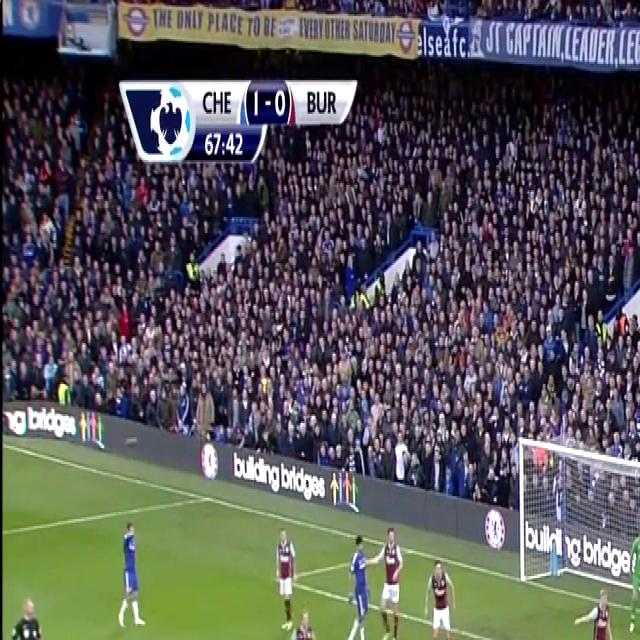goalkeeper: (624, 519, 640, 638)
referee: (8, 588, 49, 640)
soccer-player: (112, 507, 152, 638), (375, 515, 412, 640), (346, 522, 382, 640), (422, 540, 464, 640), (271, 515, 303, 629), (570, 576, 621, 640), (288, 602, 318, 640)
